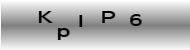6: (129, 12, 142, 26)
K: (38, 10, 54, 24)
P: (100, 10, 116, 24)
l: (77, 14, 83, 28)
p: (56, 28, 71, 40)
